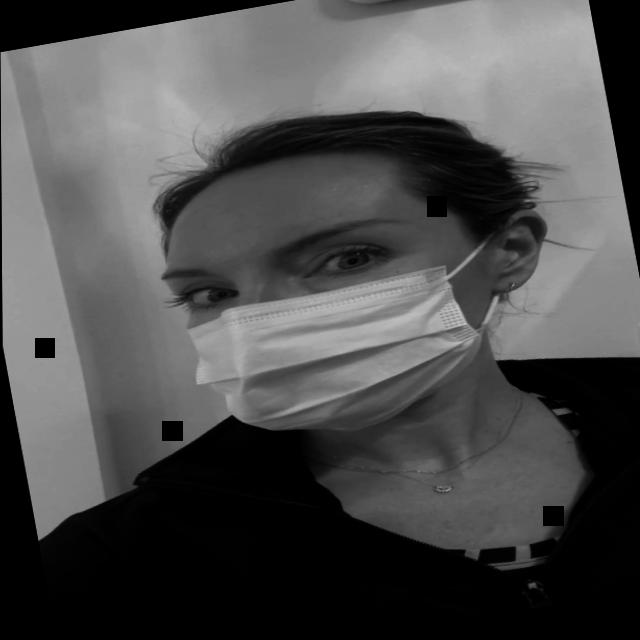Mask: (143, 128, 531, 459)
